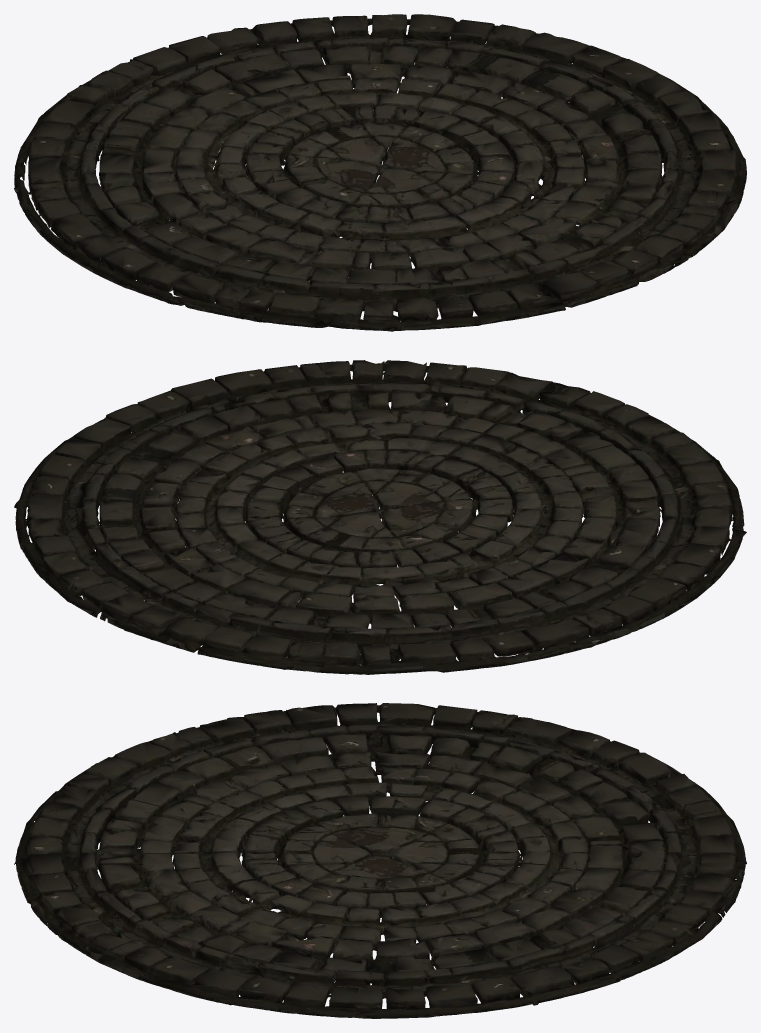
Rendered from runic_circle.glb.
The picture shows the model from 3 angles, top to bottom: view 1: azimuth 30°, elevation 25°; view 2: azimuth 150°, elevation 25°; view 3: azimuth 270°, elevation 25°; orthographic projection.
Size of the model in its own units: 1.89 by 0.043 by 1.89.
Materials: 1 (1 with a texture image).
